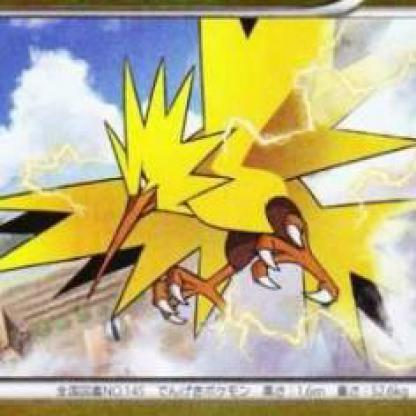Zapdos: (1, 1, 415, 415)
